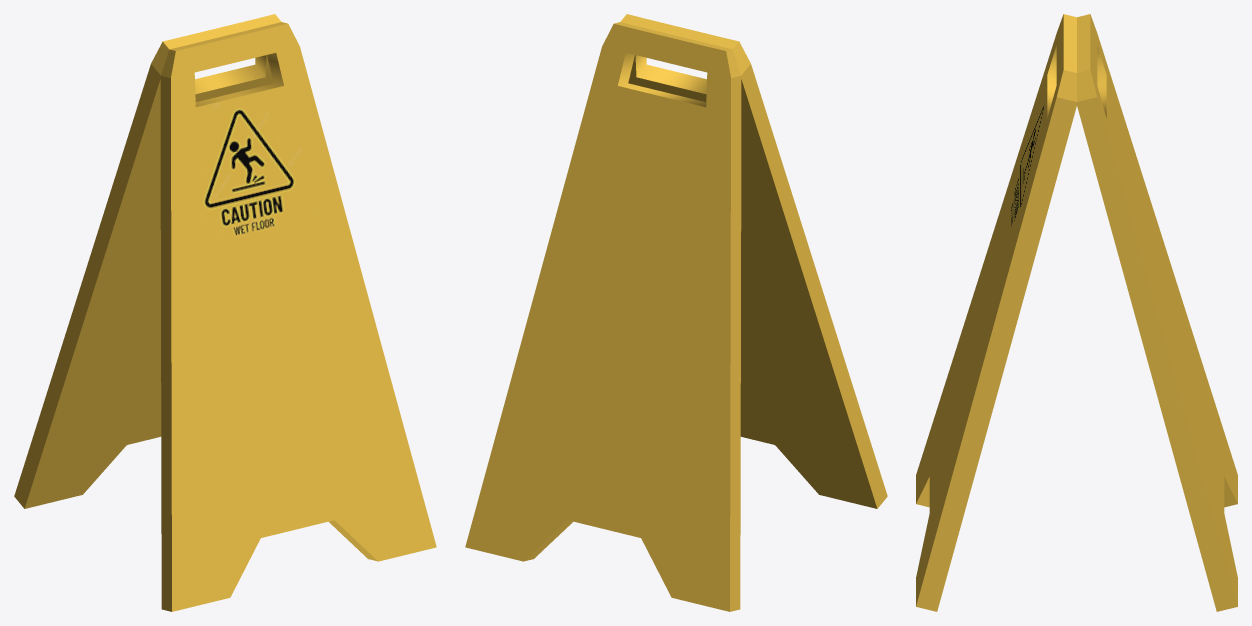
The model's file is wetfloor.FBX.
3 renders of one model, left to right at view 1: azimuth 30°, elevation 25°; view 2: azimuth 150°, elevation 25°; view 3: azimuth 270°, elevation 25°, orthographic.
Parts seen in each view (by area): view 1: WetFloor; view 2: WetFloor; view 3: WetFloor.
Boxes of the visible parts, left/top/right/bottom form: WetFloor: left=14, top=14, right=436, bottom=611; WetFloor: left=465, top=14, right=887, bottom=611; WetFloor: left=916, top=14, right=1237, bottom=611.
Size of the model in its own units: 2.42 by 4.31 by 2.5.
